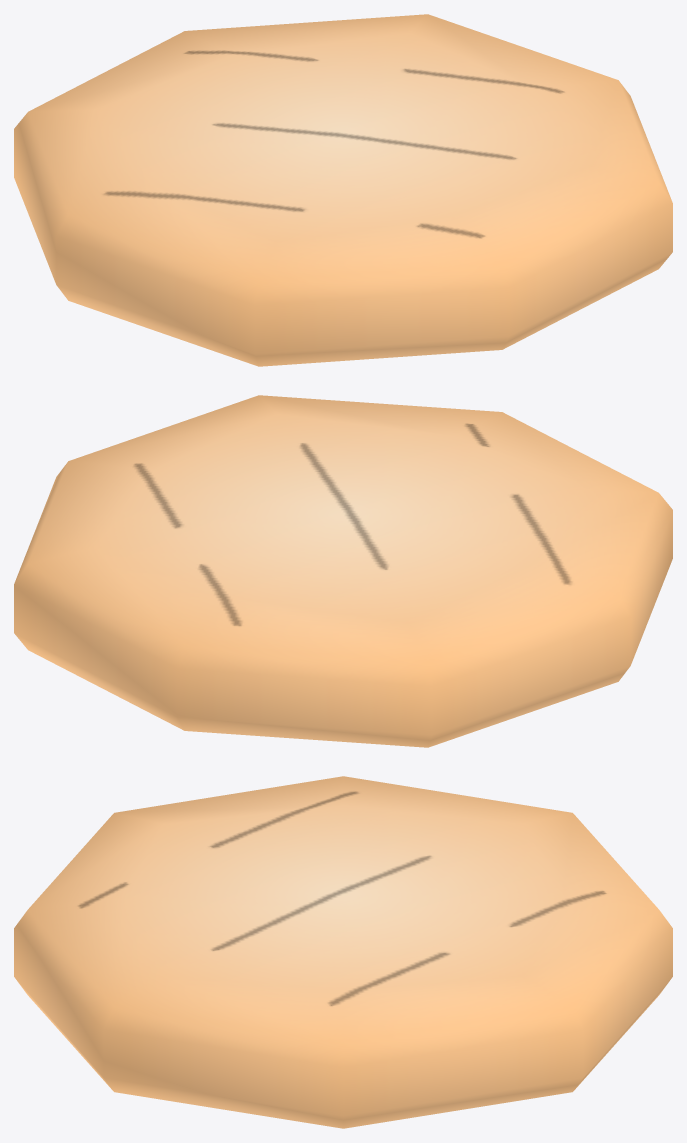
The model's file is arepa.glb.
The picture shows the model from 3 angles, top to bottom: view 1: azimuth 30°, elevation 25°; view 2: azimuth 150°, elevation 25°; view 3: azimuth 270°, elevation 25°; orthographic projection.
Parts seen in each view (by area): view 1: Arepa.001; view 2: Arepa.001; view 3: Arepa.001.
Part boxes in pixels (x1,y1,x2,y2): Arepa.001: (14,14,672,366); Arepa.001: (14,395,672,747); Arepa.001: (14,776,672,1128).
Size of the model in its own units: 0.2393 by 0.0462 by 0.2393.
Materials: 1 (1 with a texture image).
